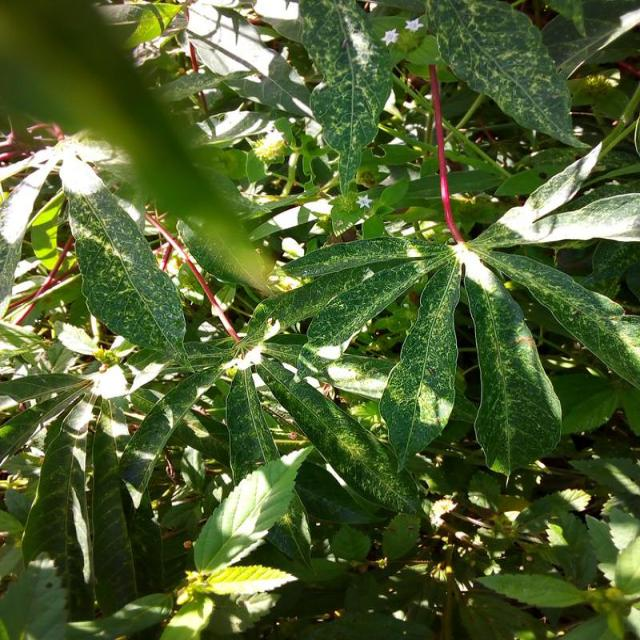cassava leaf: (59, 148, 188, 356), (424, 0, 583, 149), (462, 250, 562, 477)
